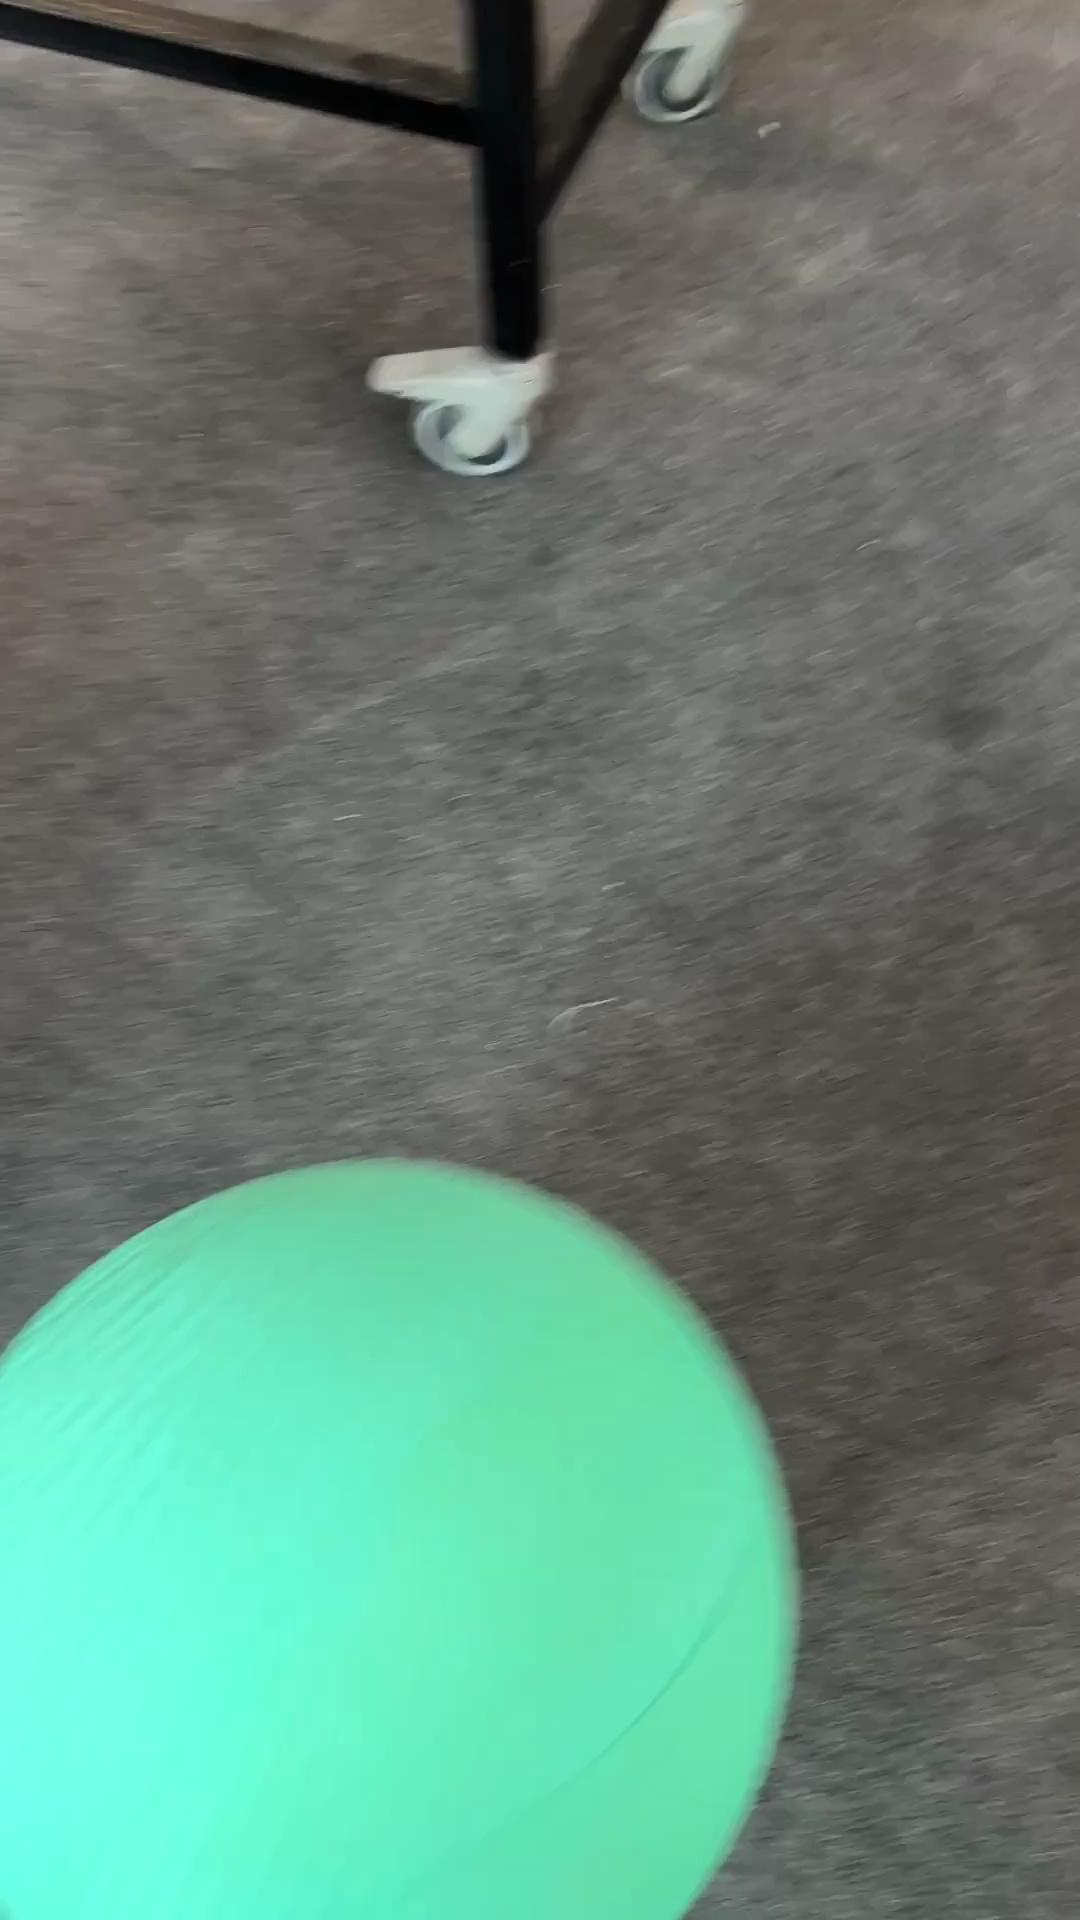ALGAE: (1, 1153, 800, 1916)
